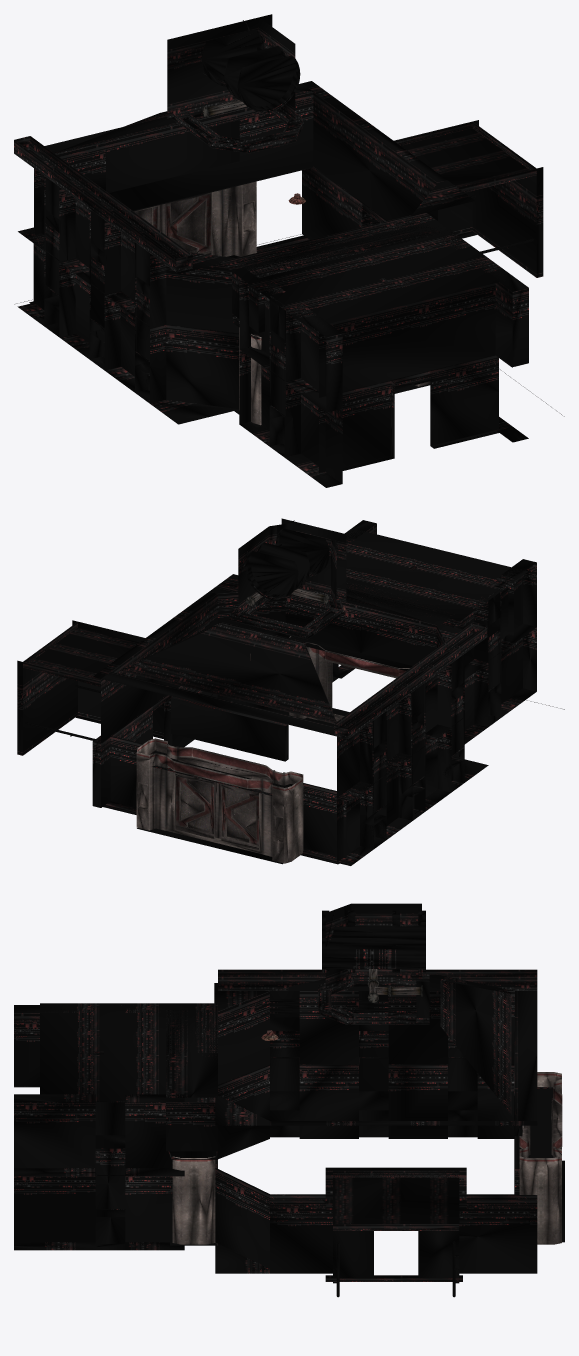
The model's file is gateaentrance_opt.obj.
3 views of the same model, one above another, from view 1: azimuth 30°, elevation 25°; view 2: azimuth 150°, elevation 25°; view 3: azimuth 270°, elevation 25° (orthographic). The views are drawn at different scales.
Bounding box in the file's own units: 104 × 68 × 119.
Materials: 14 (14 with a texture image).
